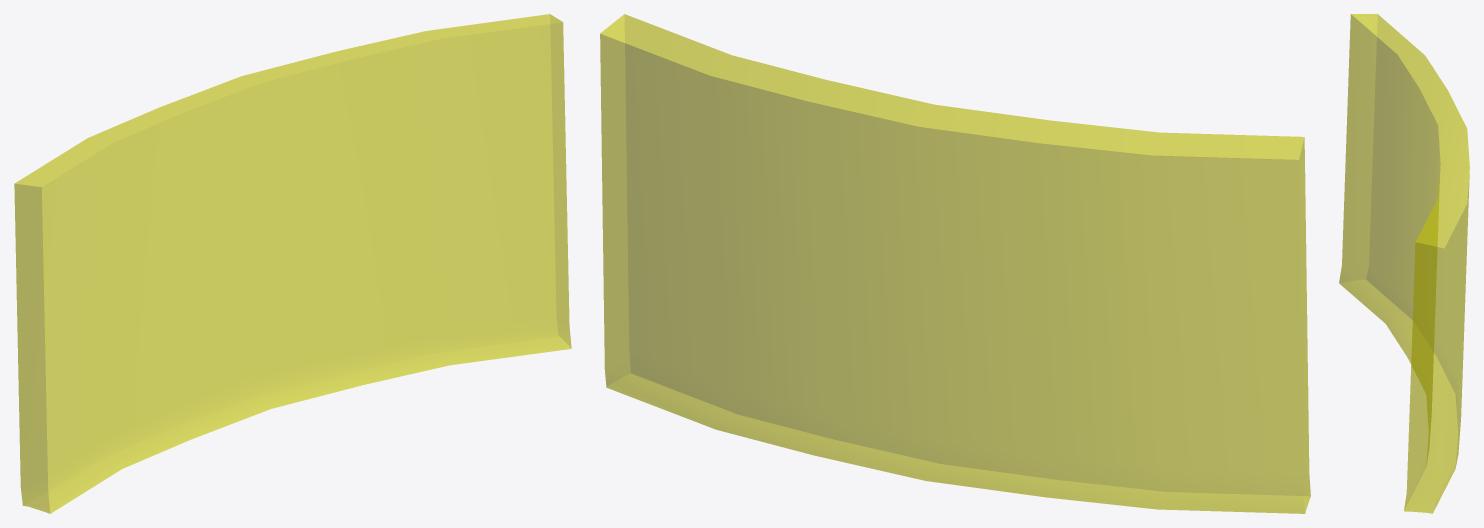
File: display_box_001.fbx
3 renders of one model, left to right at view 1: azimuth 30°, elevation 25°; view 2: azimuth 150°, elevation 25°; view 3: azimuth 270°, elevation 25°, orthographic. The views are drawn at different scales.
Parts seen in each view (by area): view 1: polySurface4; view 2: polySurface4; view 3: polySurface4.
Boxes of the visible parts, x1=… form: polySurface4: x1=14, y1=14, x2=571, y2=513; polySurface4: x1=600, y1=14, x2=1310, y2=513; polySurface4: x1=1339, y1=14, x2=1469, y2=513.
Size of the model in its own units: 5.65 by 3.02 by 1.33.
